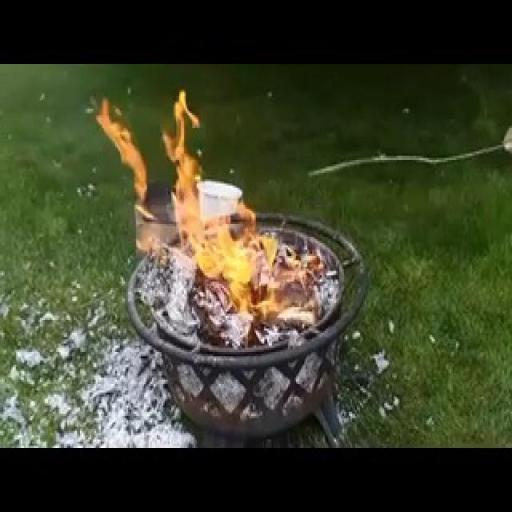smoke: (148, 92, 334, 337)
